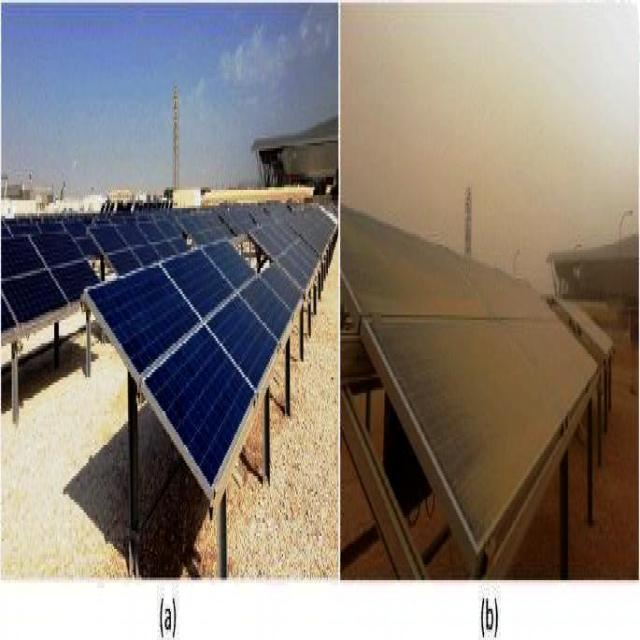faulty: (42, 89, 278, 344), (104, 295, 300, 446)
no faulty: (374, 142, 500, 330), (448, 268, 554, 385), (572, 304, 640, 430), (356, 240, 434, 344)
